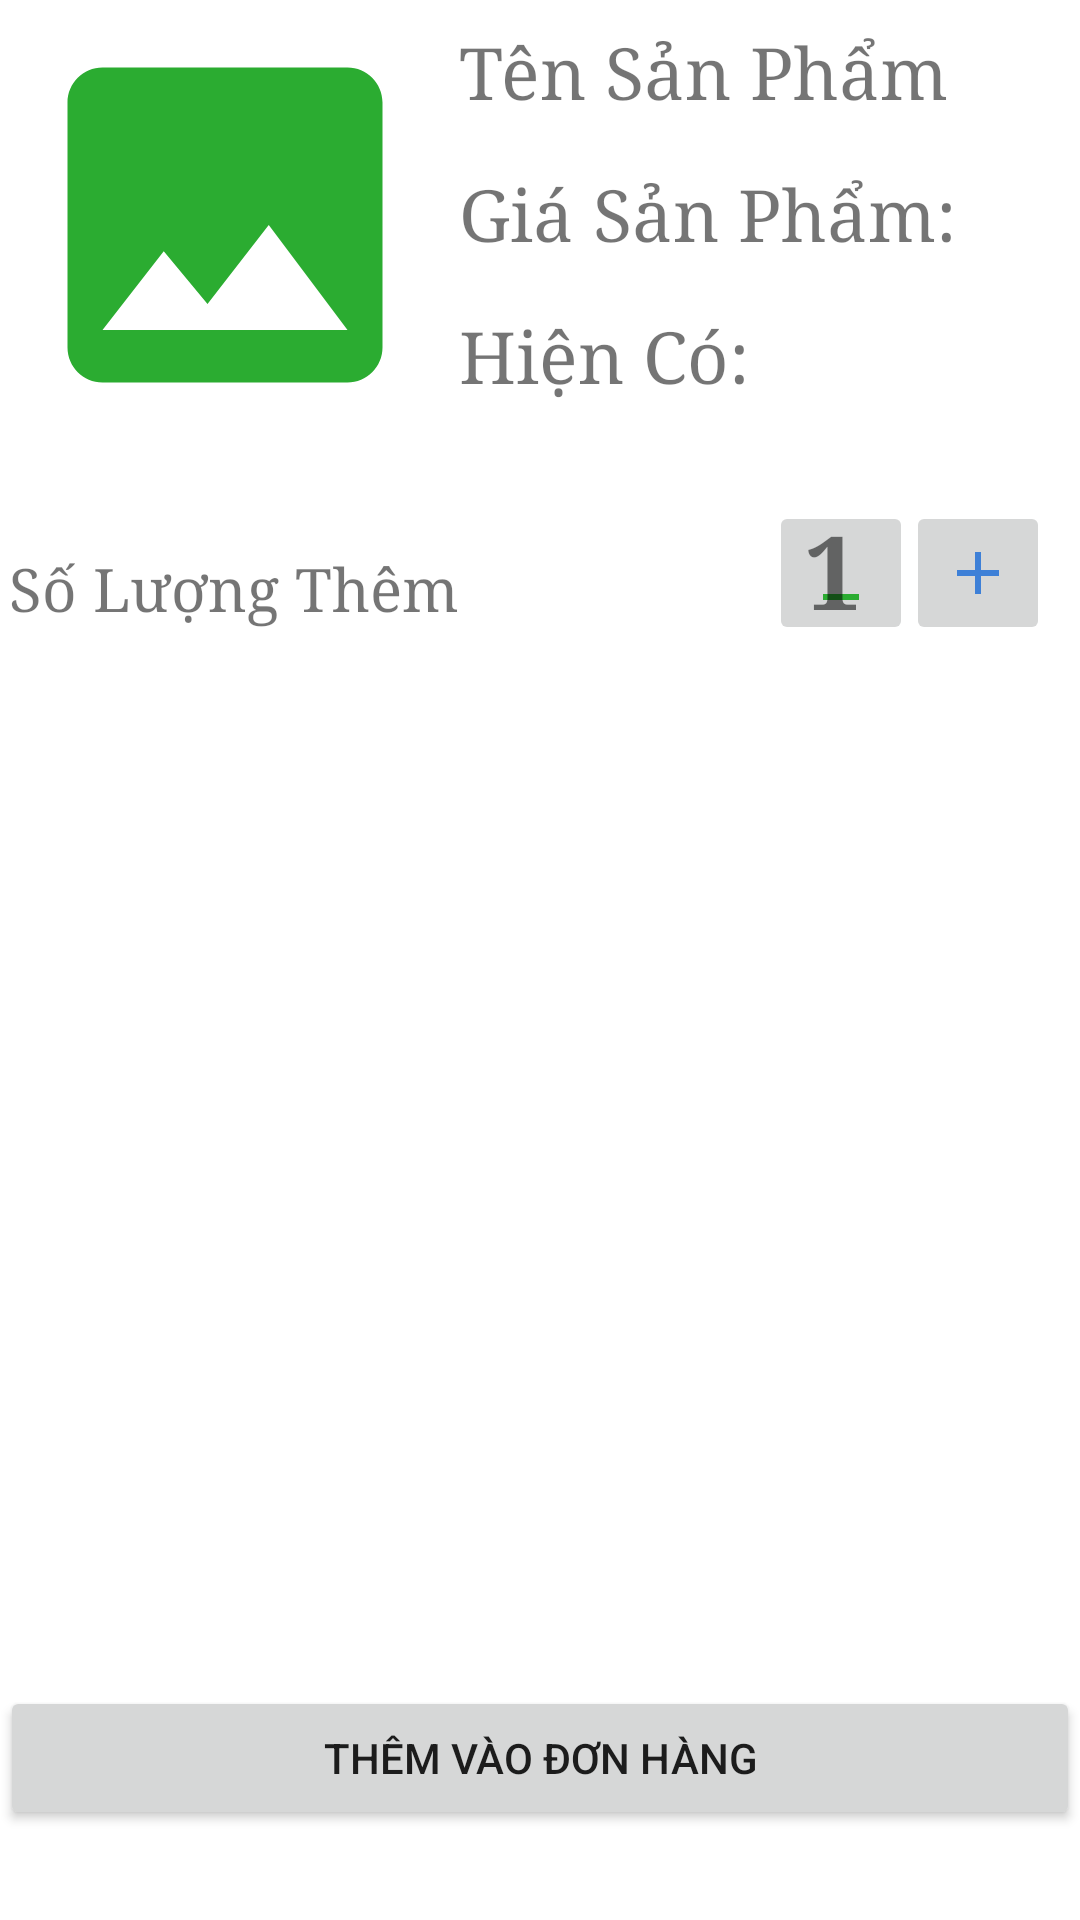

Icons on this 1080×1920 Android screen, each with the point to tap as (x,y):
Tăng số lượng: (978,573)
